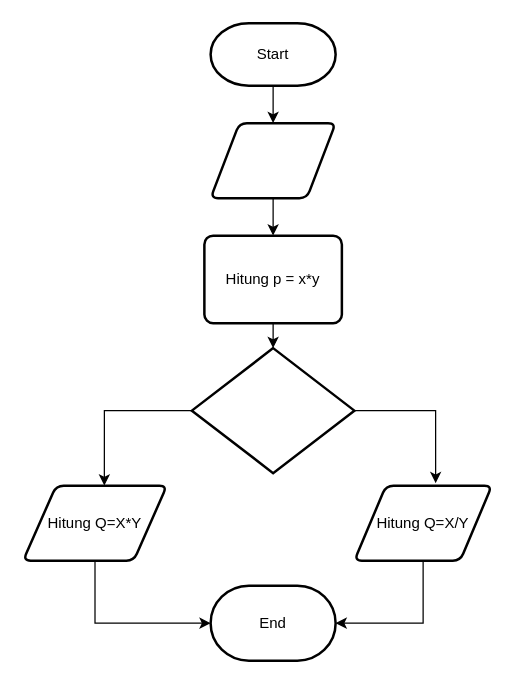
Some shapes in this 514 by 683 pixel diagram are drawn without their labels. Here are the shapes that lost their labels. From the top down, the centre of each, then its label:
(272,160): Baca X, Baca Y
(272,410): p >= 0
